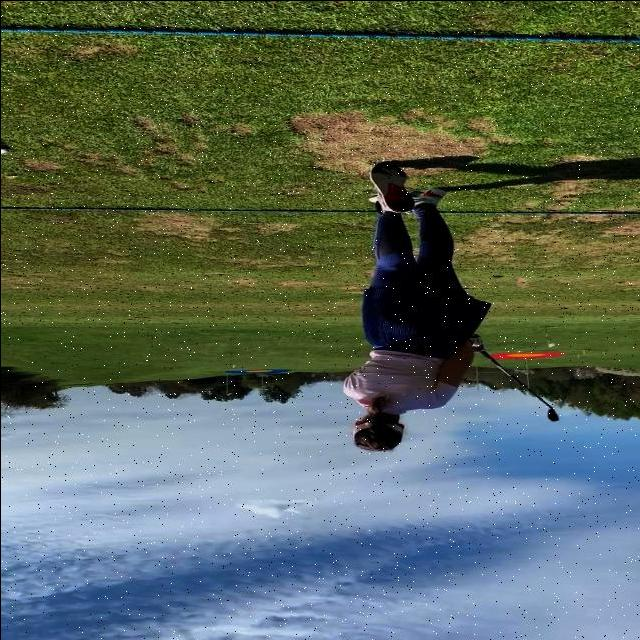golf club-handle: (467, 335, 560, 423)
golf club-head: (546, 408, 558, 421)
